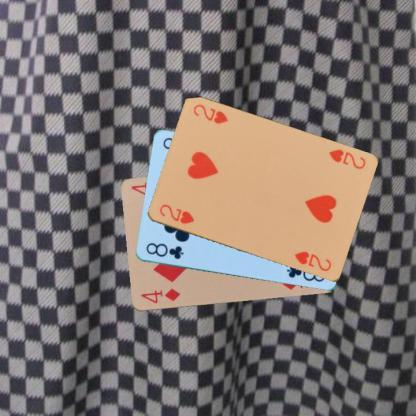2h: (156, 201, 196, 226), (326, 146, 366, 170)
4d: (138, 286, 181, 305)
8c: (143, 240, 185, 260)
